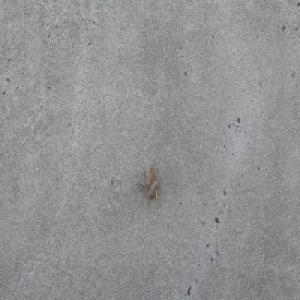Rock: (136, 161, 158, 201)
